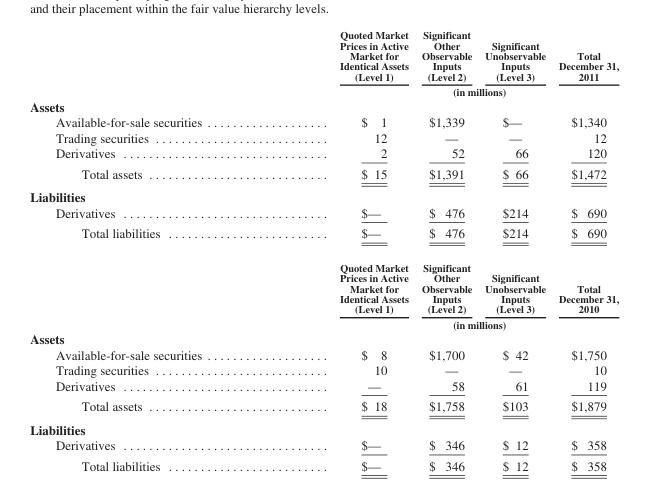table: (29, 28, 618, 472)
table column: (29, 28, 270, 472), (270, 28, 414, 472), (477, 28, 551, 472), (551, 28, 618, 472), (414, 28, 477, 472)
table column header: (29, 28, 618, 98)
table projected row header: (29, 184, 618, 204), (29, 417, 618, 436), (29, 330, 618, 346), (29, 98, 618, 113)
table row: (29, 250, 618, 316), (29, 28, 618, 83), (29, 222, 618, 250), (29, 395, 618, 417), (29, 163, 618, 184), (29, 184, 618, 204), (29, 144, 618, 163), (29, 417, 618, 436), (29, 436, 618, 455), (29, 204, 618, 222), (29, 377, 618, 395), (29, 455, 618, 472), (29, 113, 618, 129), (29, 330, 618, 346), (29, 346, 618, 362), (29, 83, 618, 98), (29, 98, 618, 113), (29, 129, 618, 144), (29, 362, 618, 377), (29, 316, 618, 330)
table spanning cell: (29, 222, 270, 330), (270, 83, 618, 98), (270, 316, 618, 330)
